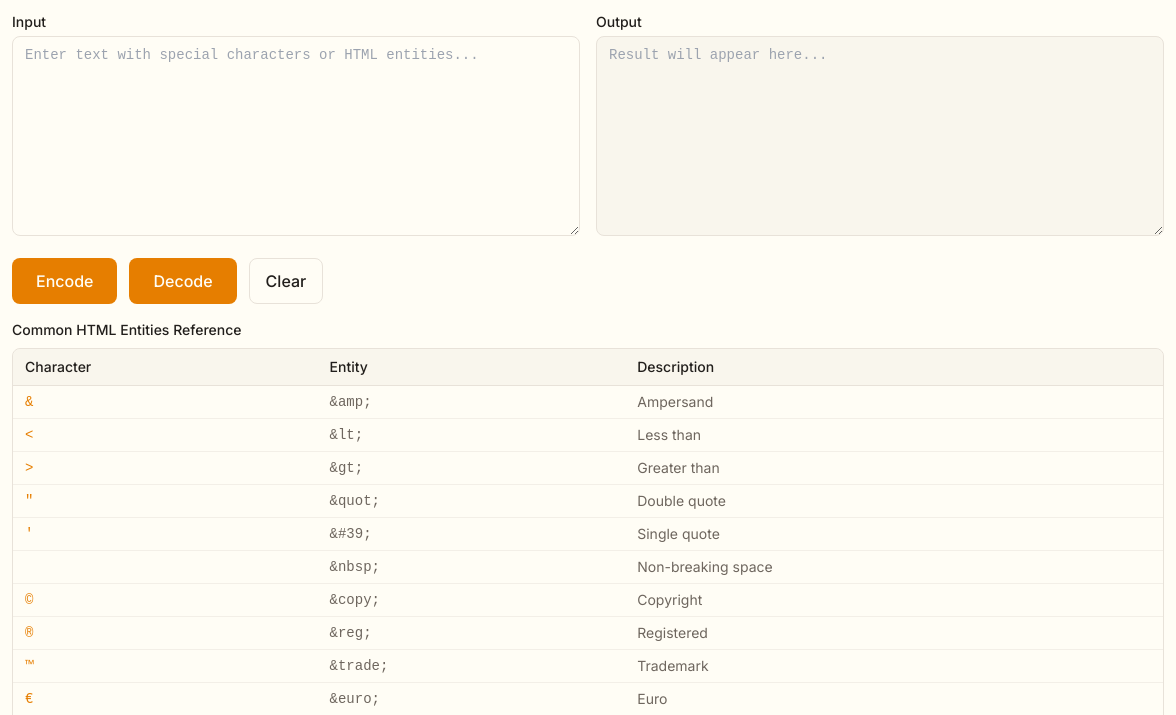
Test: HtmlEntityCodec › encodes < to &lt;
Type "<div>" into the text box with placeholder "Enter text with special characters or HTML entities...".
click(296, 136); type("<div>")  # box [12,36,580,236]
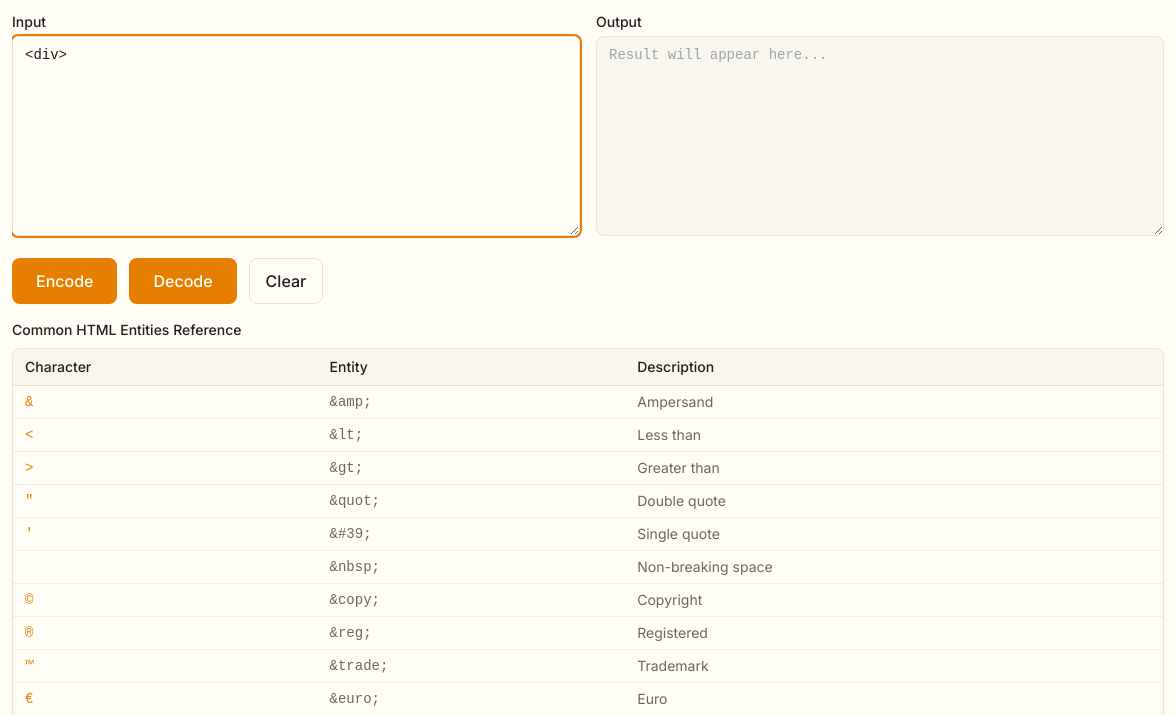
Click the button with aria-label "Encode to HTML entities".
click(65, 281)  # box [12,258,118,304]
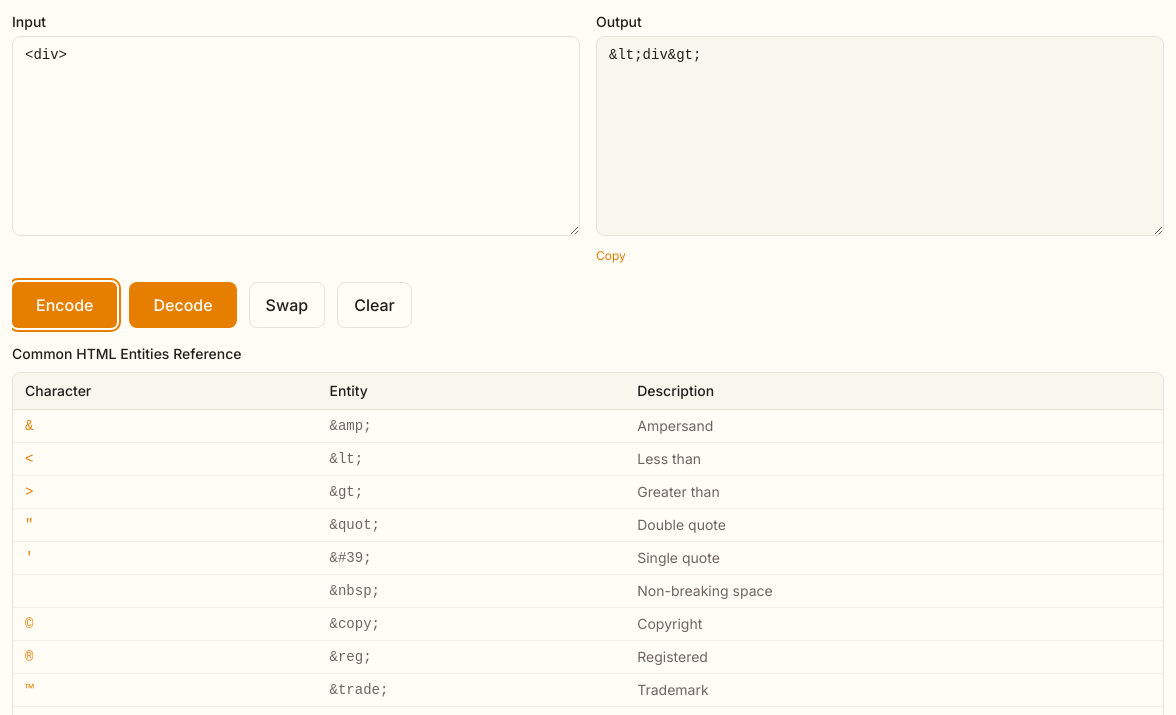
Expected: the text box with placeholder "Result will appear here..." holds "&lt;div&gt;", [596,36,1164,236]
